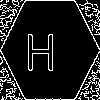H: (25, 25, 56, 71)
